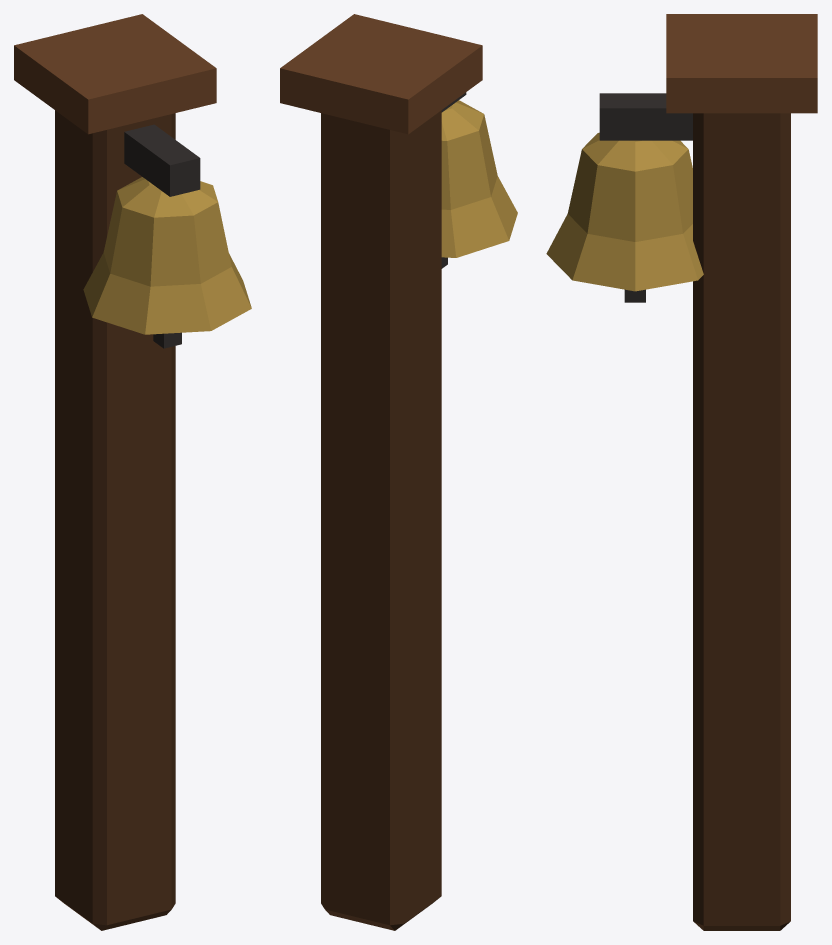
File: MillBell.glb
3 views of the same model, side by side, from view 1: azimuth 30°, elevation 25°; view 2: azimuth 150°, elevation 25°; view 3: azimuth 270°, elevation 25° (orthographic).
Parts seen in each view (by area): view 1: Body; view 2: Body; view 3: Body.
Boxes of the visible parts, x1,y1,x2,y2 form: Body: (14, 14, 251, 930); Body: (280, 14, 517, 930); Body: (546, 14, 817, 930).
Size of what is drawn, in the model's own units: 1 by 5.39 by 1.53.
